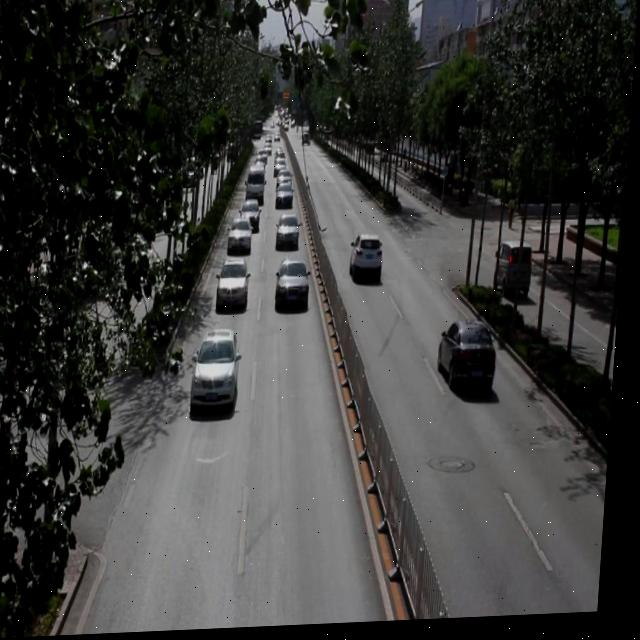car: (441, 321, 500, 402), (197, 329, 244, 410), (279, 260, 313, 313), (220, 260, 253, 313), (352, 236, 386, 287), (277, 216, 303, 255), (230, 219, 256, 257), (241, 201, 264, 236), (277, 184, 296, 212)
truck: (496, 240, 534, 299), (247, 165, 269, 205)
